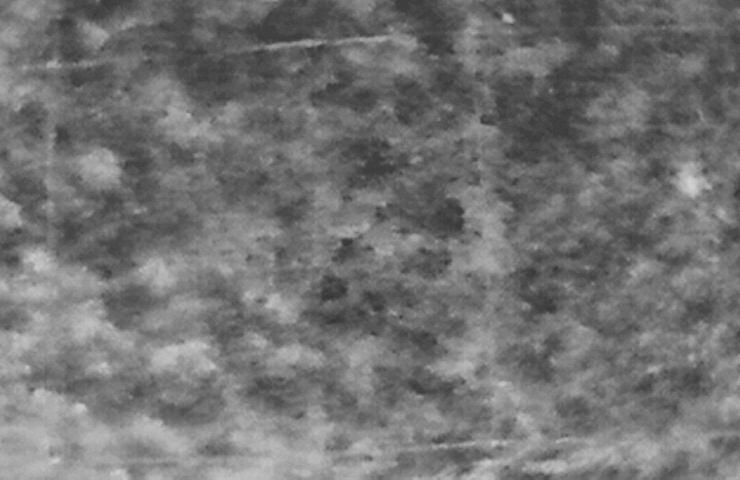landmines: (667, 155, 714, 207)
